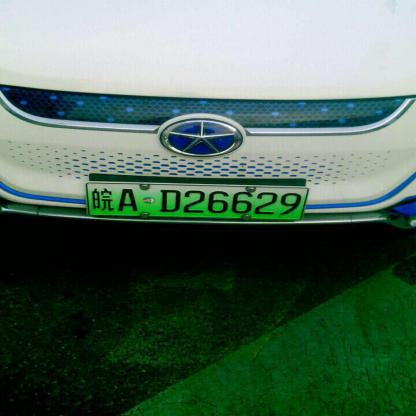lp: (86, 182, 306, 218)
